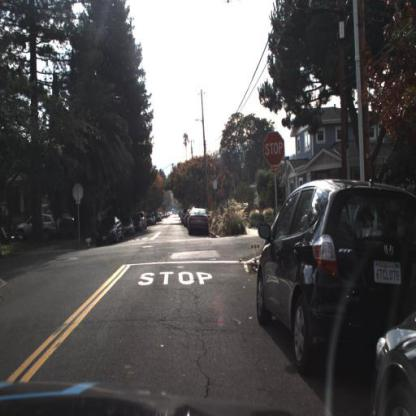car: (254, 173, 416, 369), (19, 214, 59, 240), (187, 209, 212, 238), (96, 222, 126, 245), (123, 215, 135, 237), (138, 210, 148, 231), (134, 217, 144, 235)
